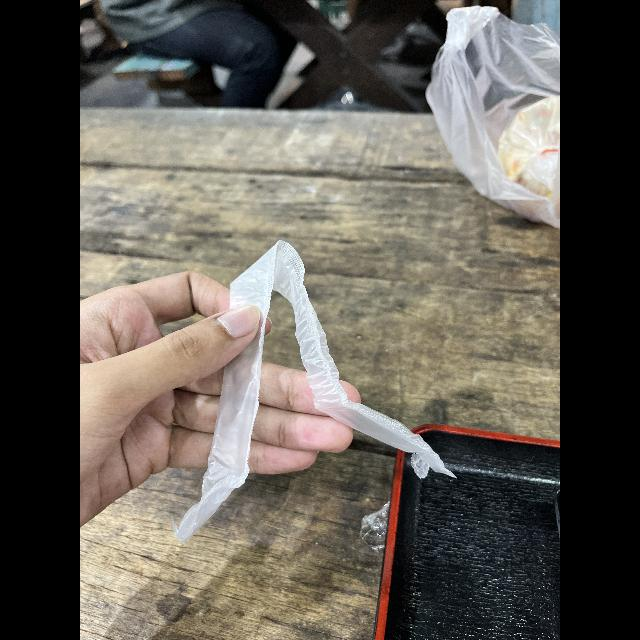plastic_bag: (424, 0, 560, 232)
scrap_plastic: (176, 232, 464, 542)
